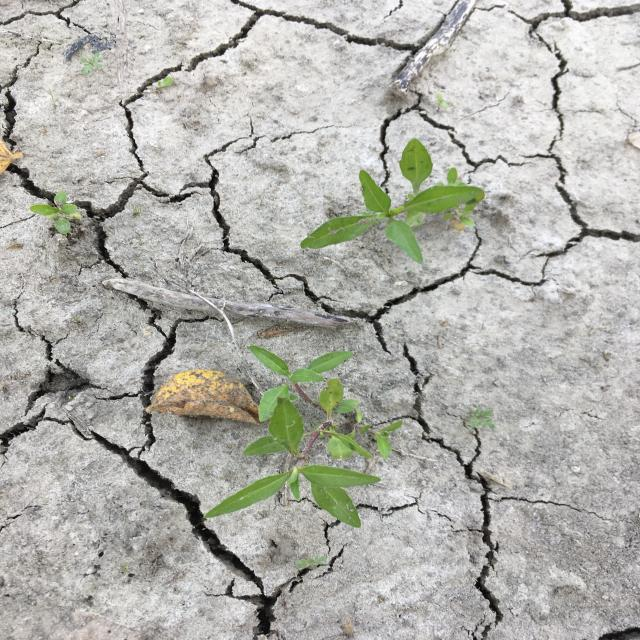Eclipta: (202, 344, 406, 530), (300, 137, 487, 266), (28, 190, 84, 237)
